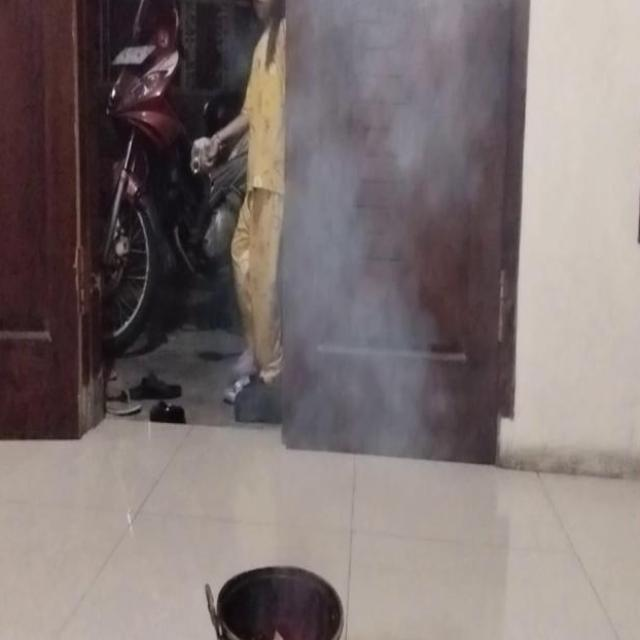fire: (289, 0, 472, 428)
